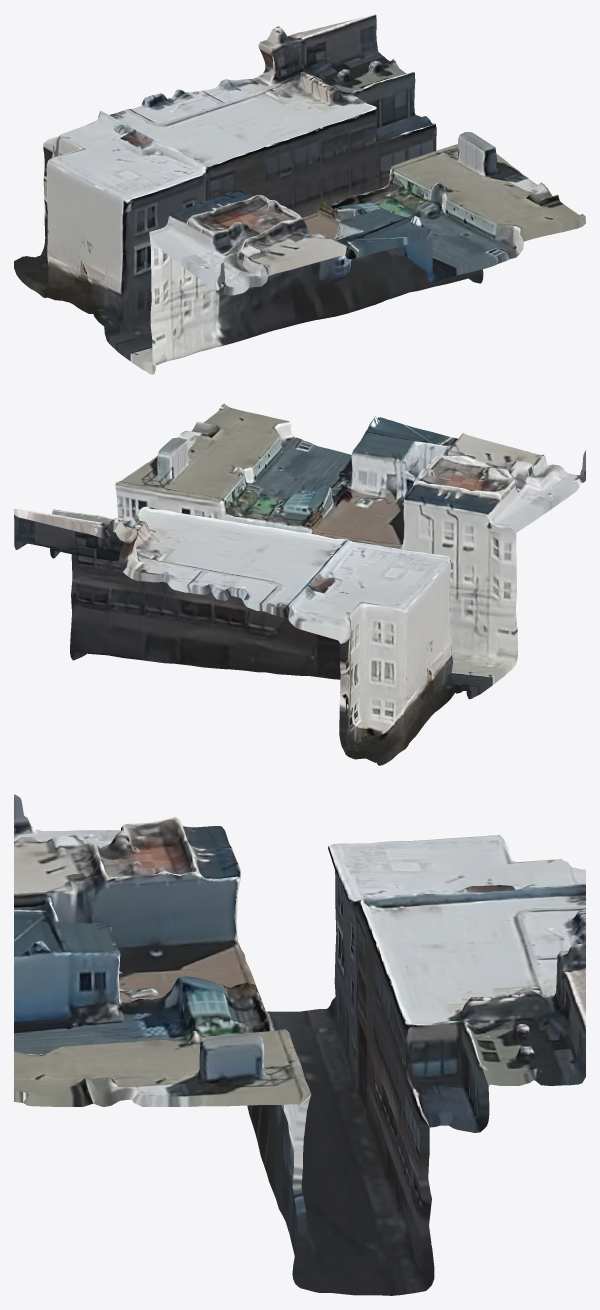
The model's file is z20-167738-405197-h0-yup-uvflip-v3-world.glb.
3 views of the same model, one above another, from view 1: azimuth 30°, elevation 25°; view 2: azimuth 150°, elevation 25°; view 3: azimuth 270°, elevation 25° (orthographic). The views are drawn at different scales.
Size of the model in its own units: 30.2 by 16.76 by 30.32.
Materials: 1 (1 with a texture image).
